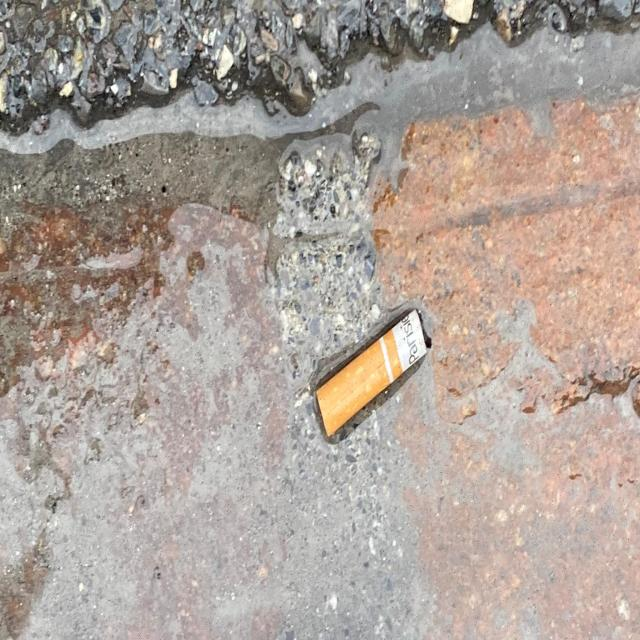other waste: (314, 307, 428, 440)
